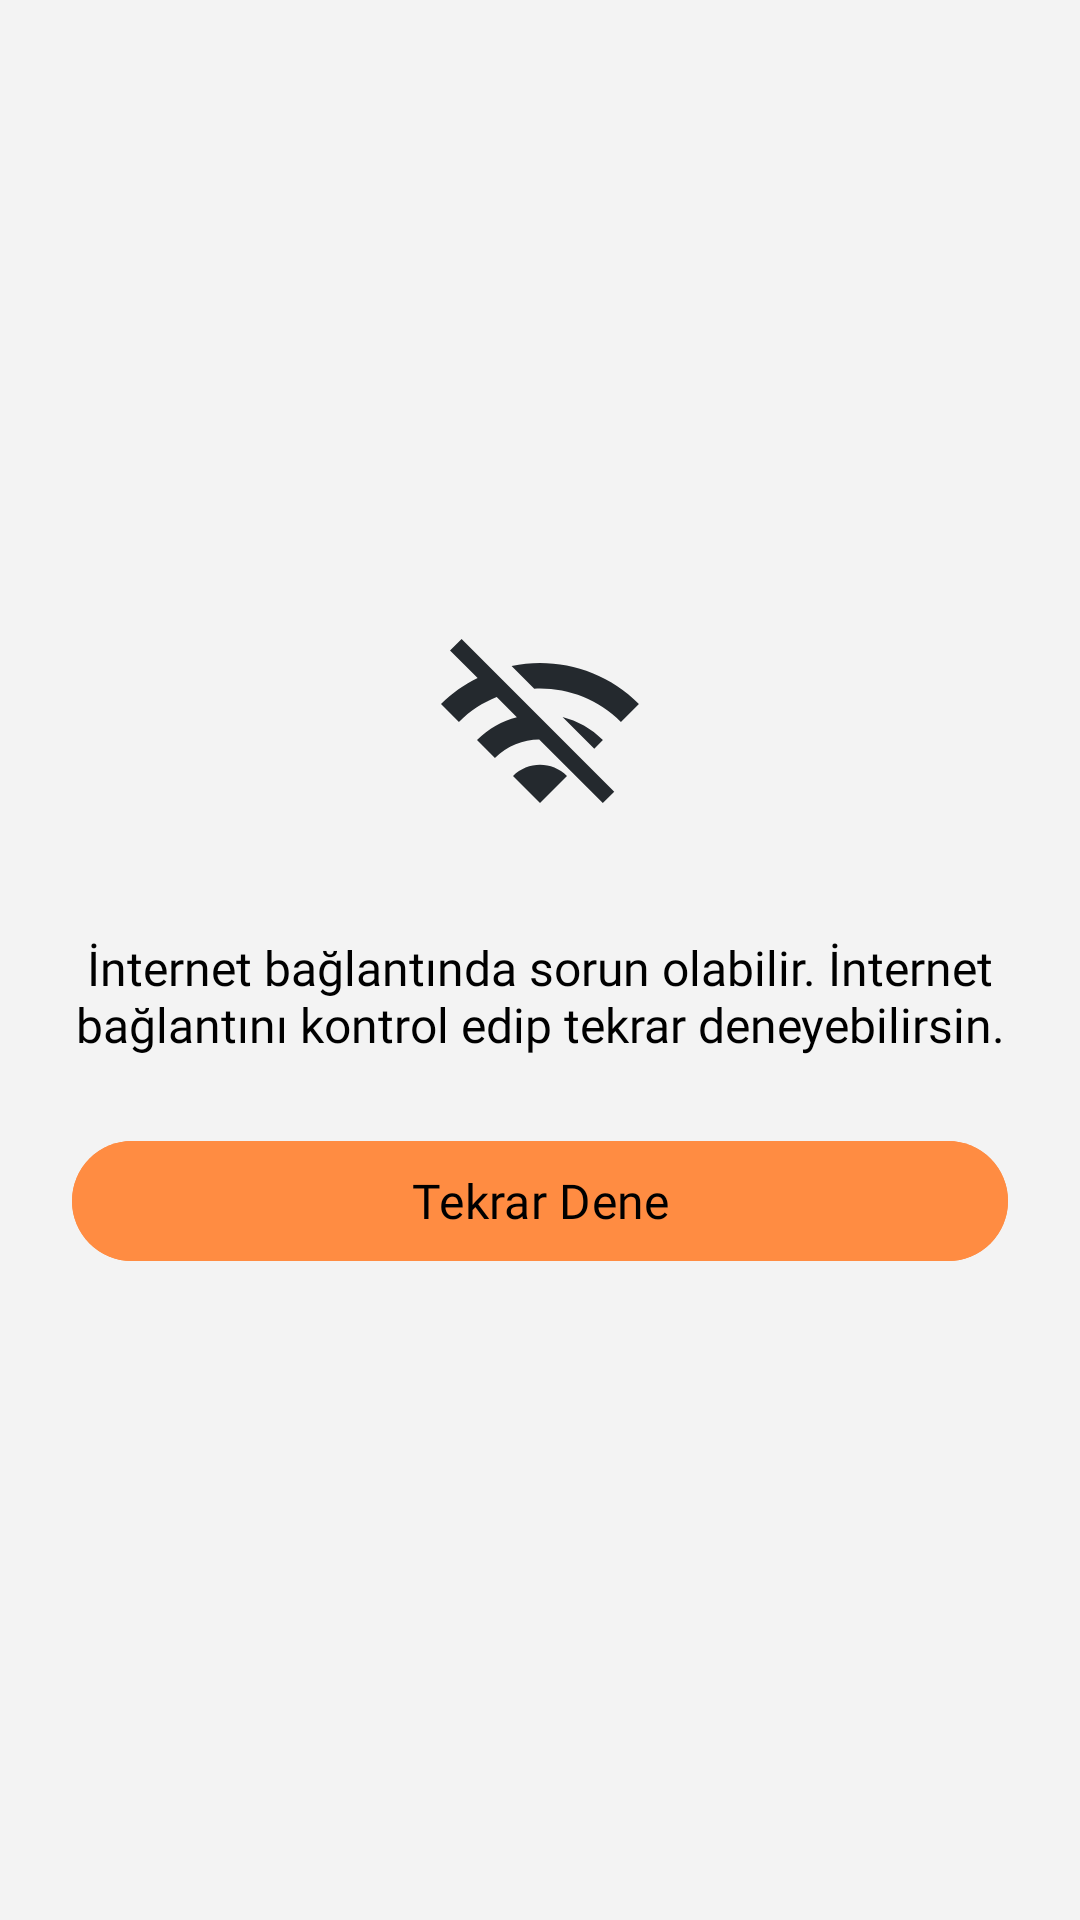

Icon click points for this 1080px x 1920px phone screenshot, format (x,y):
no internet: (540,721)
